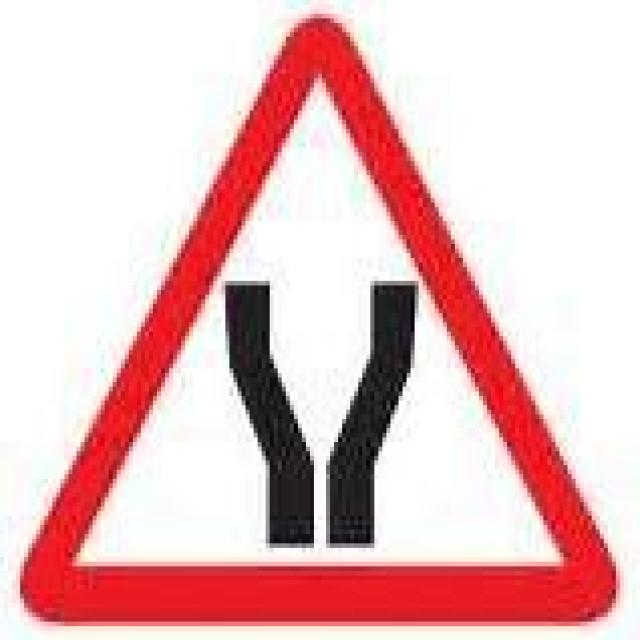do_not_turn_right: (16, 9, 616, 622)
